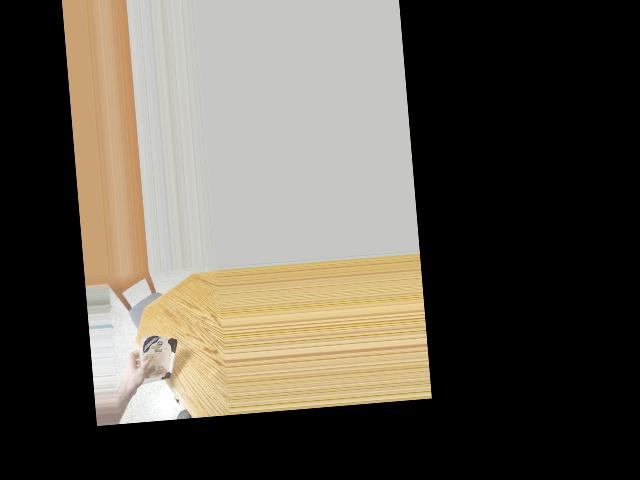cheese: (137, 330, 177, 390)
